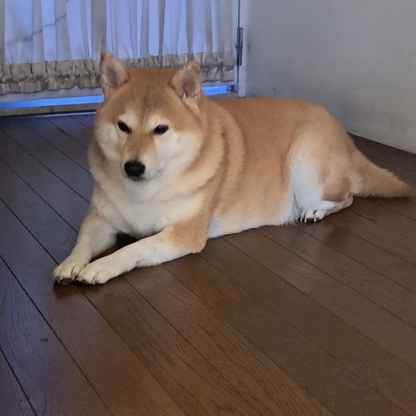akita: (43, 43, 416, 289)
